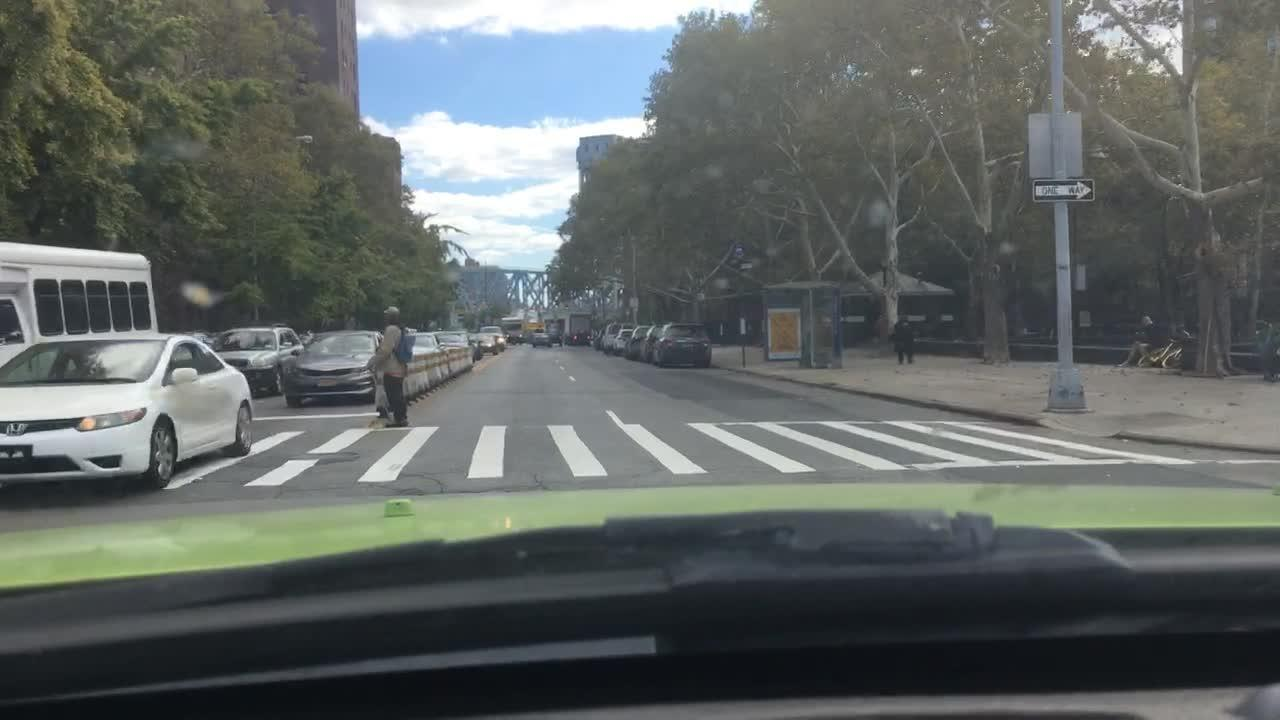Honda: (0, 419, 36, 443)
